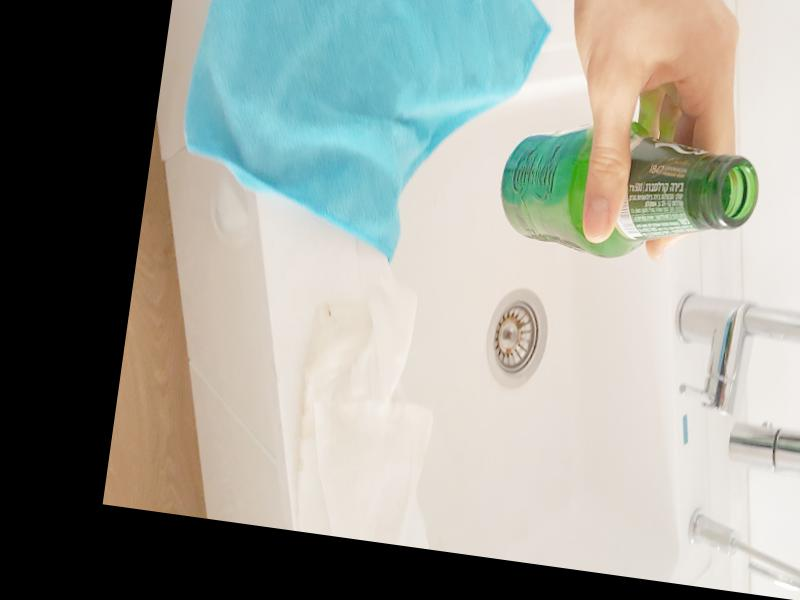Beer: (491, 107, 764, 278)
